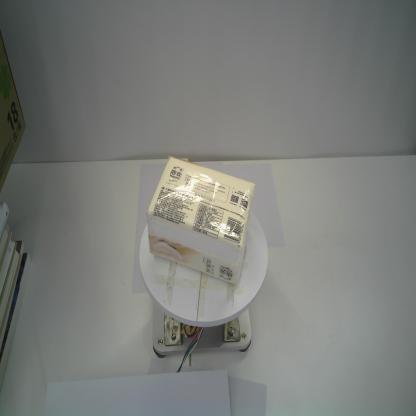Tissue: (146, 156, 256, 285)
